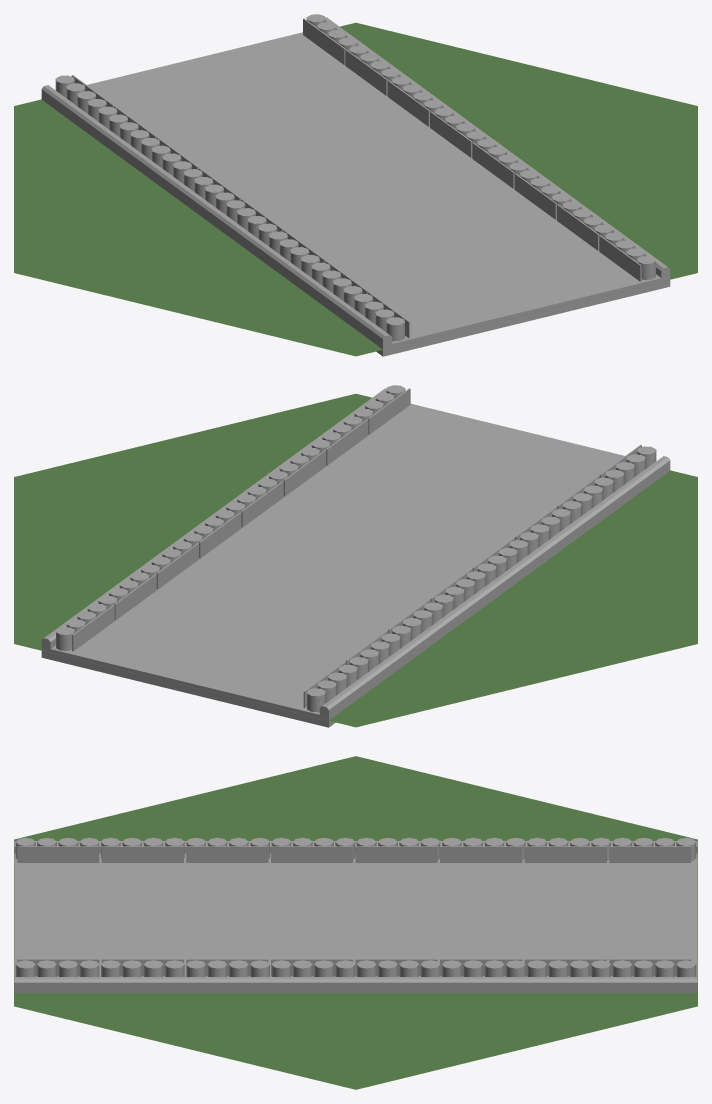
Rendered from Sample.fbx.
3 views of the same model, one above another, from view 1: azimuth 30°, elevation 25°; view 2: azimuth 150°, elevation 25°; view 3: azimuth 270°, elevation 25° (orthographic).
Visible parts, largest first — view 1: StraightTrack, pCylinder1, WaterBucket33, AdBoard, WaterBucket32, AdBoard2; view 2: StraightTrack, pCylinder1, WaterBucket33, AdBoard, WaterBucket32, AdBoard2; view 3: StraightTrack, pCylinder1, AdBoard2, WaterBucket32, WaterBucket33, AdBoard.
Boxes of the visible parts, x1,y1,x2,y2 form: StraightTrack: (41, 17, 670, 356); pCylinder1: (14, 22, 697, 356); WaterBucket33: (55, 75, 404, 341); AdBoard: (303, 18, 641, 281); WaterBucket32: (306, 14, 655, 279); AdBoard2: (71, 75, 410, 337); StraightTrack: (41, 388, 670, 727); pCylinder1: (14, 393, 697, 727); WaterBucket33: (307, 446, 656, 712); AdBoard: (72, 388, 410, 651); WaterBucket32: (56, 385, 405, 650); AdBoard2: (303, 445, 641, 707); StraightTrack: (14, 841, 697, 992); pCylinder1: (14, 756, 697, 1089); AdBoard2: (17, 846, 691, 862); WaterBucket32: (15, 960, 696, 976); WaterBucket33: (15, 837, 696, 860); AdBoard: (17, 959, 691, 975).
Bounding box in the file's own units: 4 × 0.1512 × 3.46.
